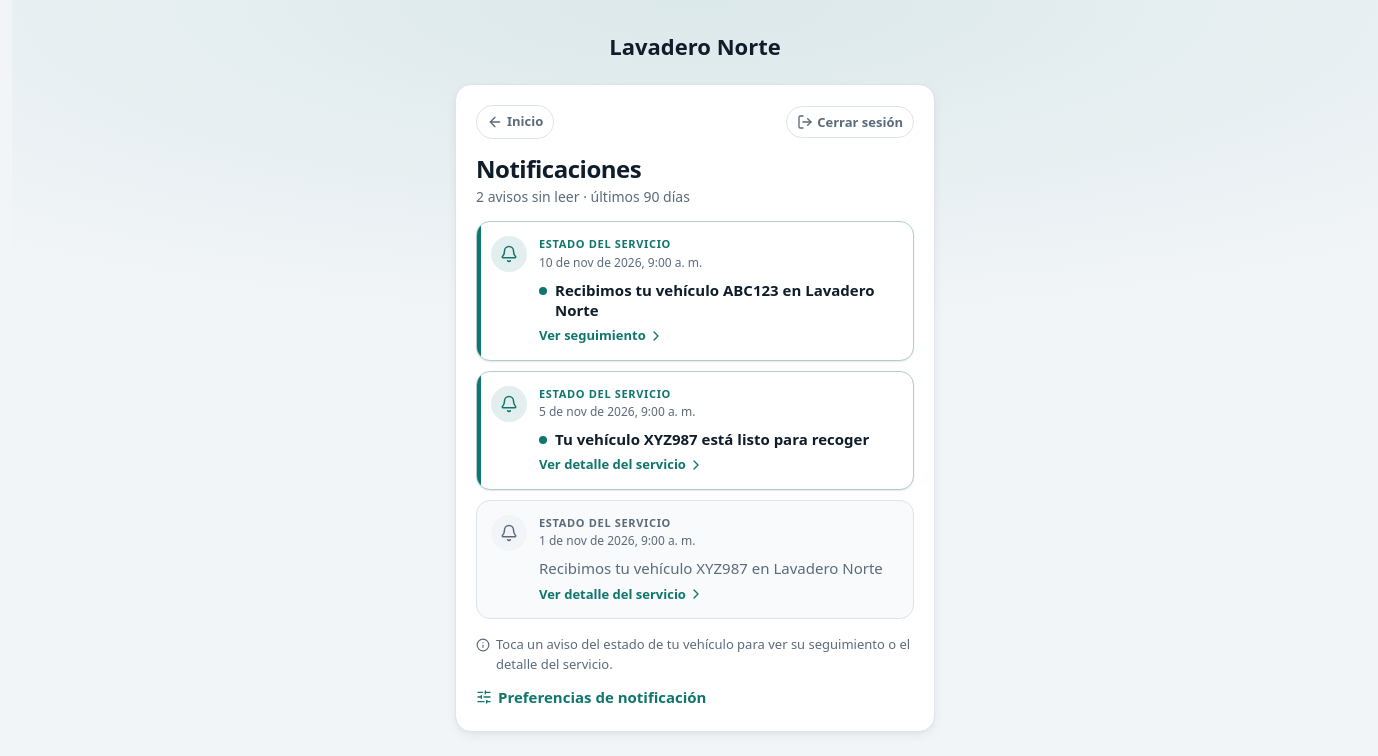
Scenario: HU-38 · pantalla del centro de notificaciones › CA3: abrir un aviso de un vehículo en servicio lo marca como leído y lleva al seguimiento
This screenshot has width=1378, height=756.
Click the button named "Ver seguimiento" at coordinates (695, 291), box [476,221,914,361]
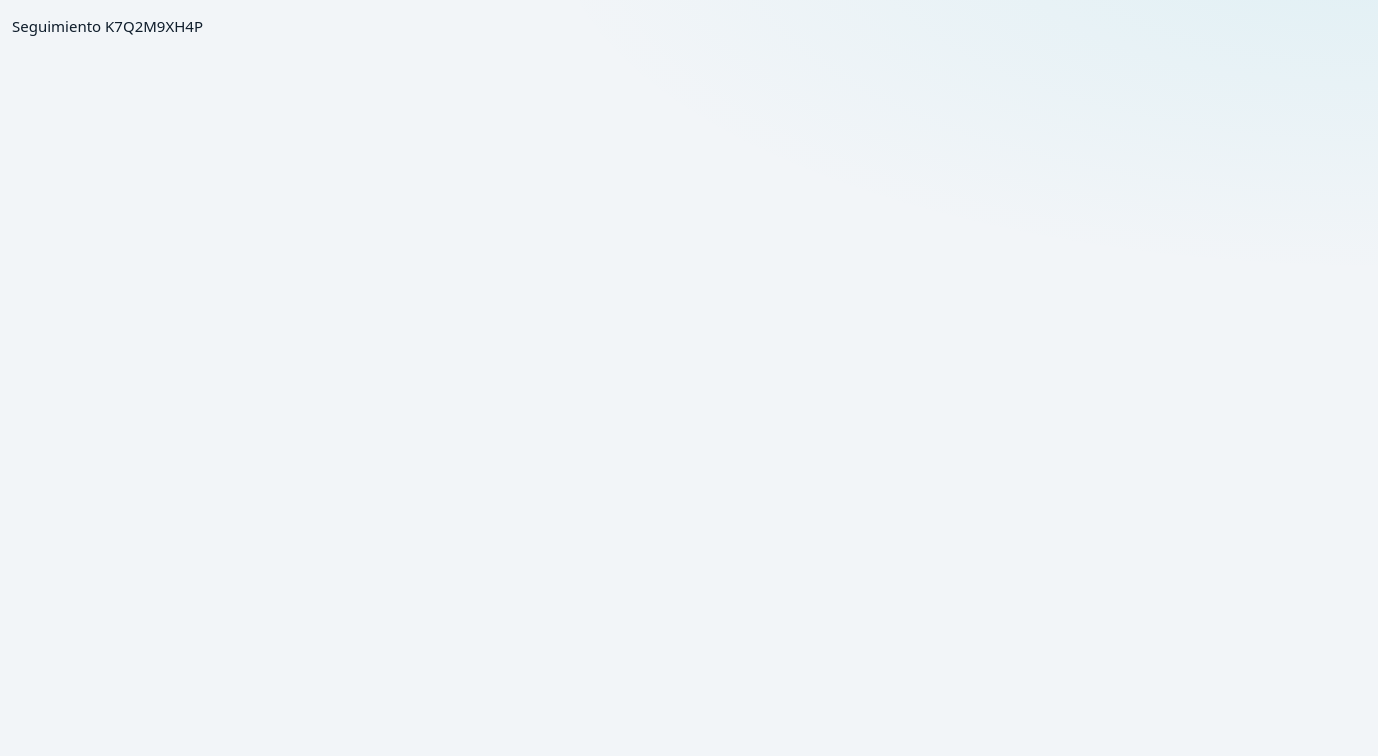
Expected: the text "Seguimiento K7Q2M9XH4P" is shown, [12,16,203,36]
